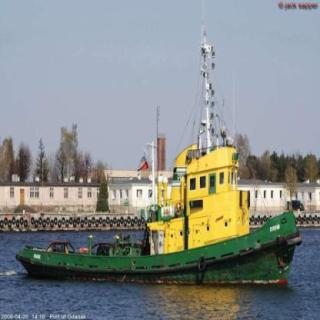Tug Boat: (13, 106, 316, 283)
